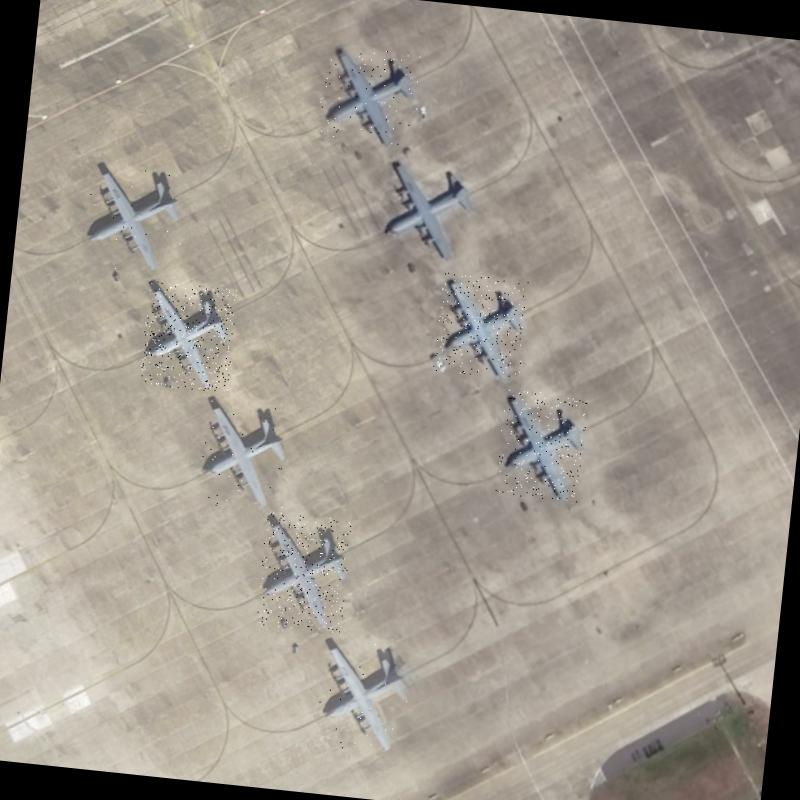A2: (78, 161, 188, 275), (255, 511, 352, 633), (314, 638, 414, 756), (376, 151, 481, 262), (195, 397, 295, 512), (138, 280, 238, 393), (316, 43, 422, 148), (494, 387, 588, 502), (432, 270, 530, 380)
